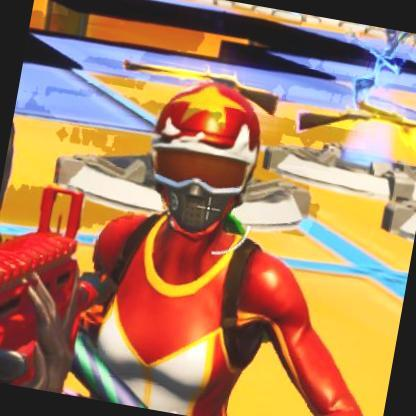person: (107, 78, 295, 416)
